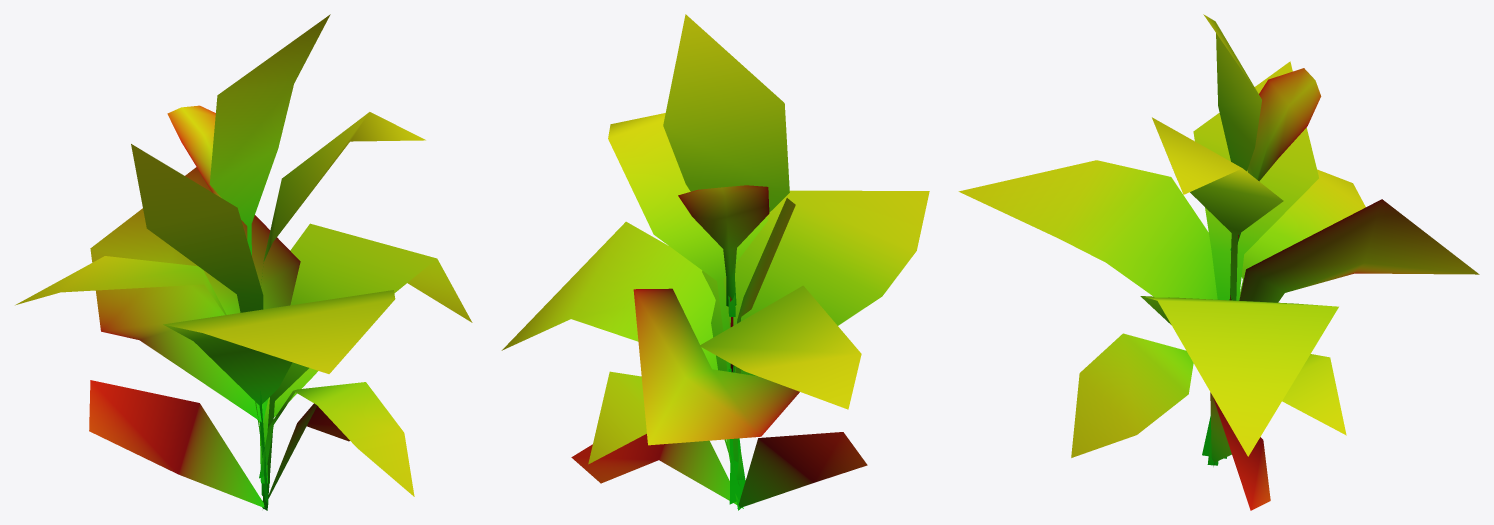
The model's file is var1.fbx.
3 renders of one model, left to right at view 1: azimuth 30°, elevation 25°; view 2: azimuth 150°, elevation 25°; view 3: azimuth 270°, elevation 25°, orthographic.
Visible parts, largest first — view 1: Var1_LOD0; view 2: Var1_LOD0; view 3: Var1_LOD0.
Part boxes in pixels (x1,y1,x2,y2): Var1_LOD0: (15,14,472,510); Var1_LOD0: (501,14,929,510); Var1_LOD0: (958,14,1479,510).
Size of what is drawn, in the model's own units: 144 by 164 by 161.
